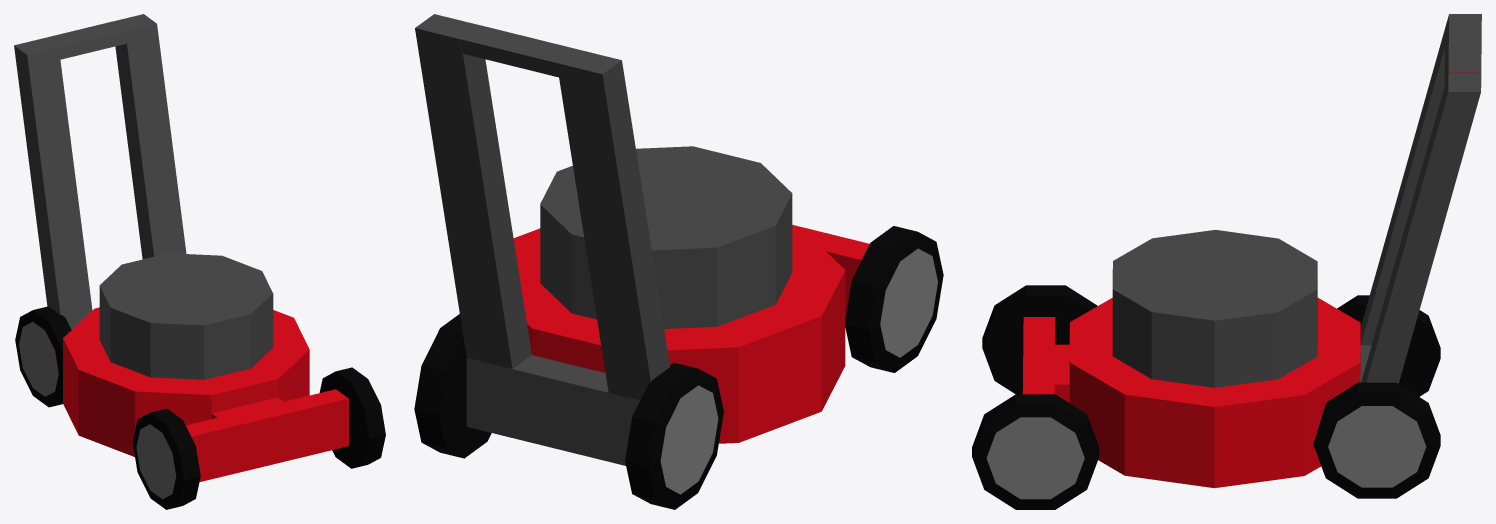
The model's file is MowerMachine.fbx.
3 renders of one model, left to right at view 1: azimuth 30°, elevation 25°; view 2: azimuth 150°, elevation 25°; view 3: azimuth 270°, elevation 25°, orthographic. The views are drawn at different scales.
Parts seen in each view (by area): view 1: MainBody, Wheel, Wheel.001, Wheel.003; view 2: MainBody, Wheel, Wheel.001, Wheel.002; view 3: MainBody, Wheel.003, Wheel.002, Wheel, Wheel.001.
Boxes of the visible parts, x1,y1,x2,y2 form: MainBody: [14, 14, 348, 481]; Wheel: [132, 408, 200, 509]; Wheel.001: [15, 306, 71, 407]; Wheel.003: [319, 367, 385, 468]; MainBody: [415, 14, 869, 465]; Wheel: [845, 226, 943, 372]; Wheel.001: [625, 362, 723, 509]; Wheel.002: [414, 314, 491, 458]; MainBody: [1022, 14, 1481, 488]; Wheel.003: [972, 394, 1099, 509]; Wheel.002: [1313, 382, 1440, 498]; Wheel: [982, 285, 1097, 394]; Wheel.001: [1337, 295, 1440, 396].
Bounding box in the file's own units: 200 × 286 × 333.
